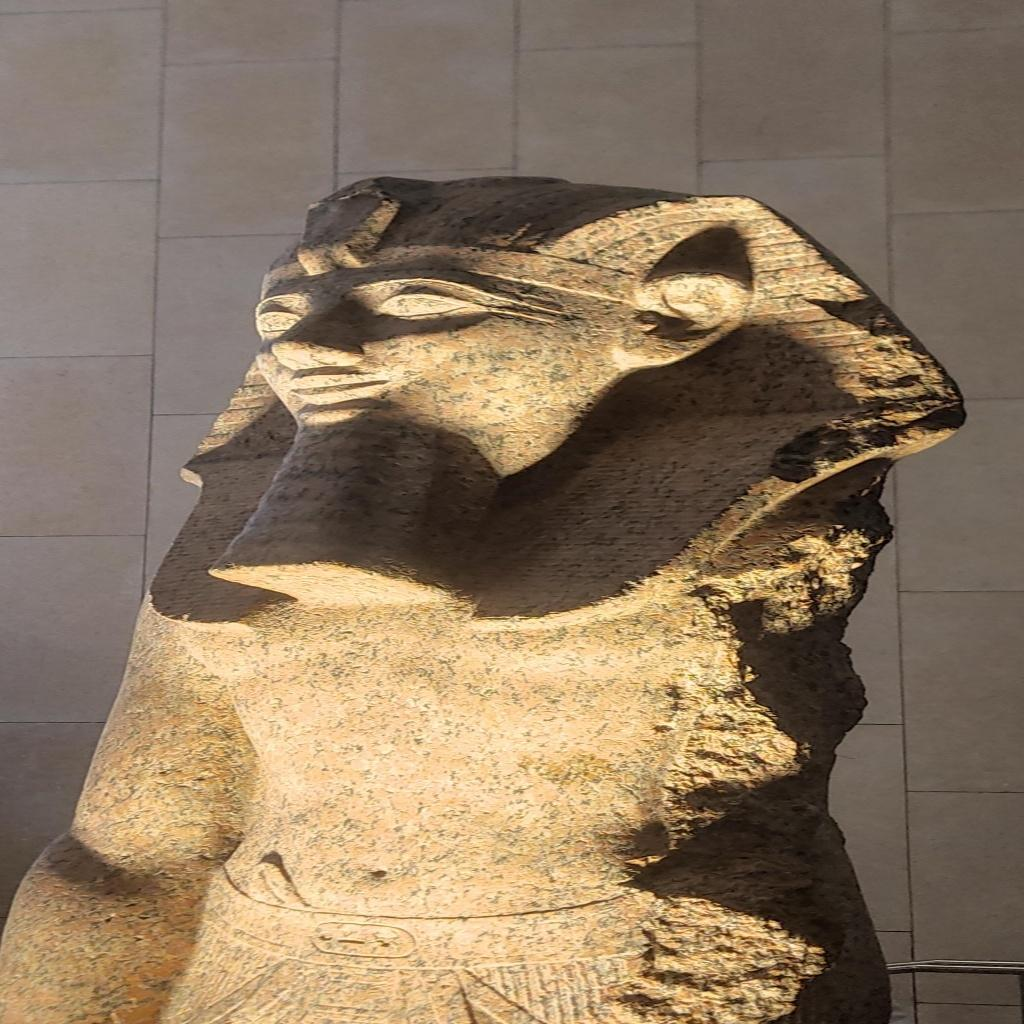Standing Statue of Thutmose III: (4, 170, 974, 1024)
